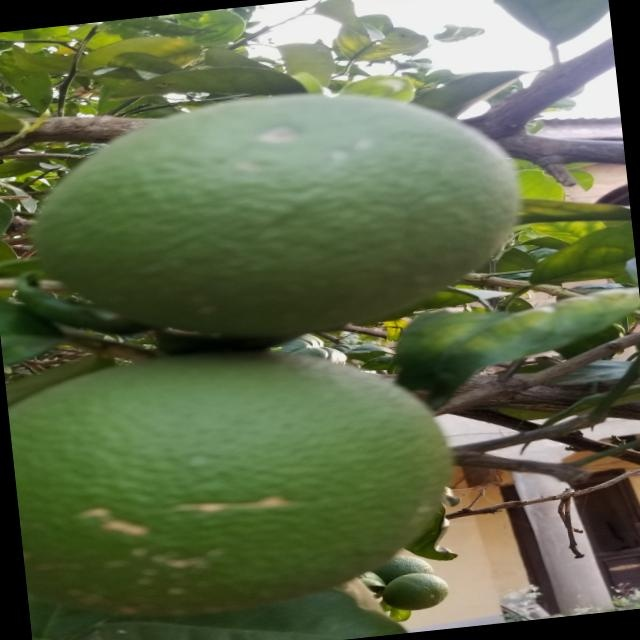agrume: (30, 73, 519, 359), (4, 332, 456, 624)
